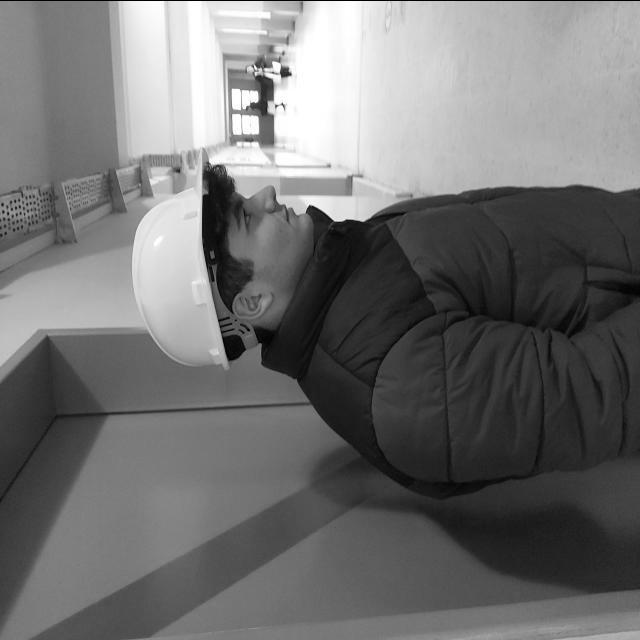construction helmet: (132, 164, 254, 368)
